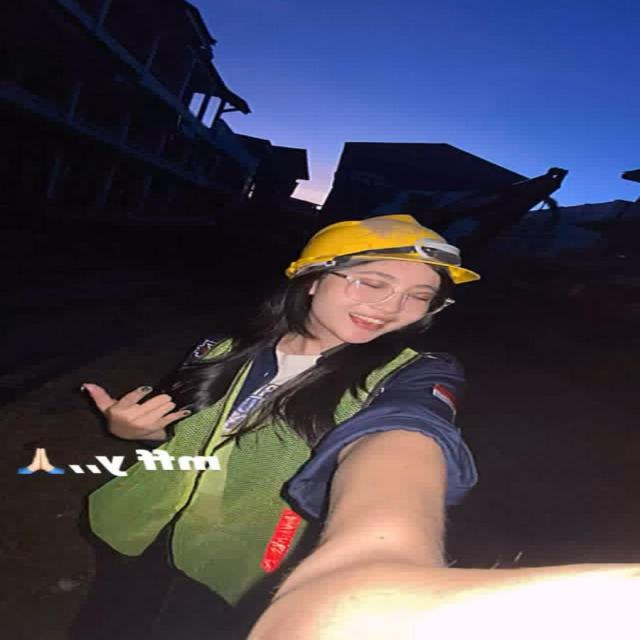safetyhelmet: (276, 207, 483, 321)
